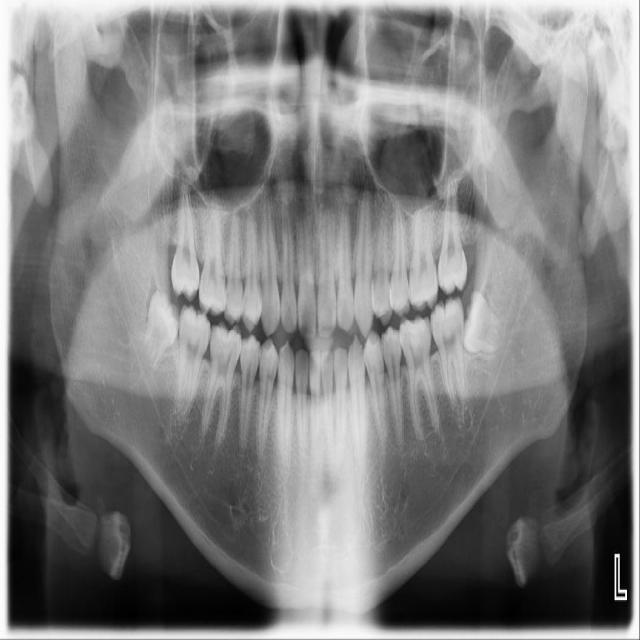73: (618, 619, 630, 630)
BioHorizons Implant: (437, 172, 468, 296)
Biomet 3i Implant: (459, 289, 506, 356)
Blue Sky Bio Implant: (429, 295, 467, 411)
Caries: (171, 182, 200, 303)
Implant: (175, 304, 212, 417)
Keystone Dental Implant: (137, 288, 186, 375)
